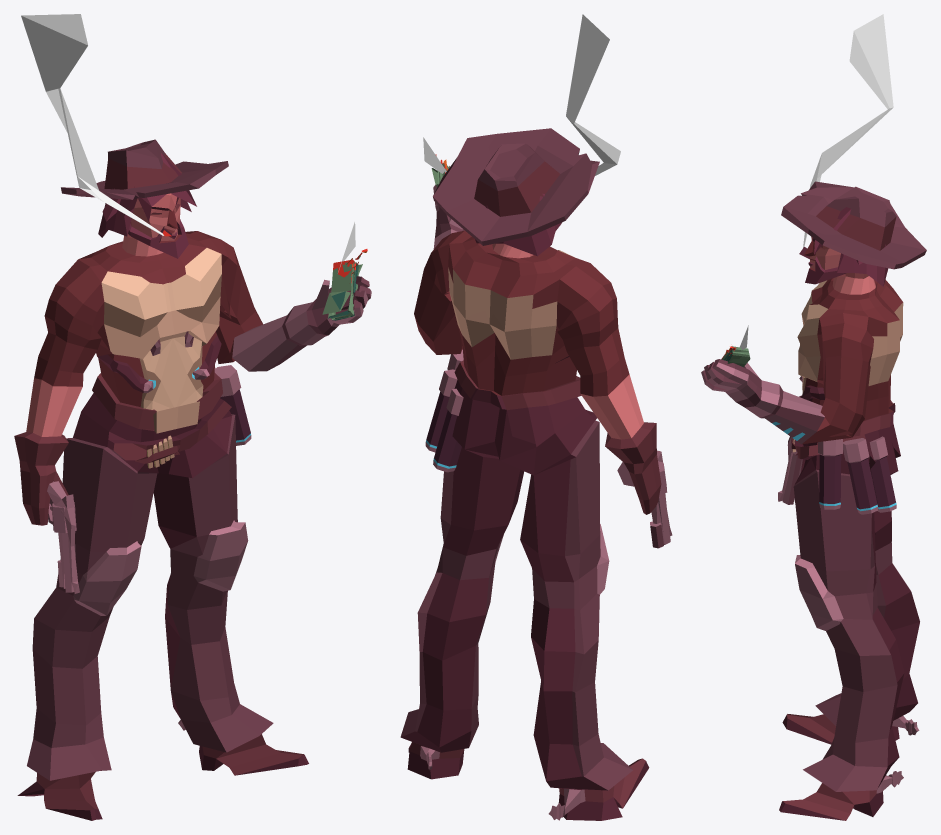
File: mccreescetchfab.fbx
3 renders of one model, left to right at view 1: azimuth 30°, elevation 25°; view 2: azimuth 150°, elevation 25°; view 3: azimuth 270°, elevation 25°, orthographic. The views are drawn at different scales.
Visible parts, largest first — view 1: mccree, Cylinder, GUN, Cube.001, Cylinder.002; view 2: mccree, Cylinder, Cylinder.004, GUN, Cylinder.003, Cube.001; view 3: mccree, Cylinder, Cylinder.003, Cylinder.002, Cylinder.004, GUN, Cube.001.
Part boxes in pixels (x1=…): mccree: x1=14, y1=14, x2=371, y2=820; Cylinder: x1=61, y1=139, x2=228, y2=199; GUN: x1=47, y1=481, x2=79, y2=593; Cube.001: x1=322, y1=222, x2=367, y2=320; Cylinder.002: x1=214, y1=365, x2=251, y2=445; mccree: x1=400, y1=14, x2=661, y2=820; Cylinder: x1=433, y1=128, x2=599, y2=245; Cylinder.004: x1=433, y1=388, x2=463, y2=472; GUN: x1=617, y1=450, x2=672, y2=548; Cylinder.003: x1=425, y1=369, x2=457, y2=452; Cube.001: x1=423, y1=137, x2=449, y2=186; mccree: x1=701, y1=14, x2=919, y2=820; Cylinder: x1=781, y1=181, x2=926, y2=269; Cylinder.003: x1=843, y1=438, x2=877, y2=514; Cylinder.002: x1=818, y1=439, x2=842, y2=509; Cylinder.004: x1=869, y1=436, x2=896, y2=512; GUN: x1=778, y1=436, x2=802, y2=504; Cube.001: x1=721, y1=325, x2=750, y2=367.
Bounding box in the file's own units: 111 × 295 × 84.29.
